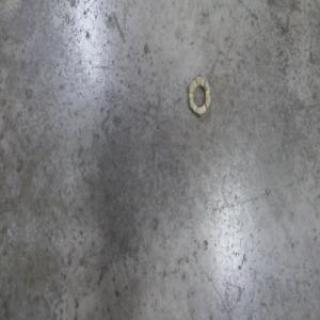Nuttrack_idkeyframe: (187, 70, 211, 117)
